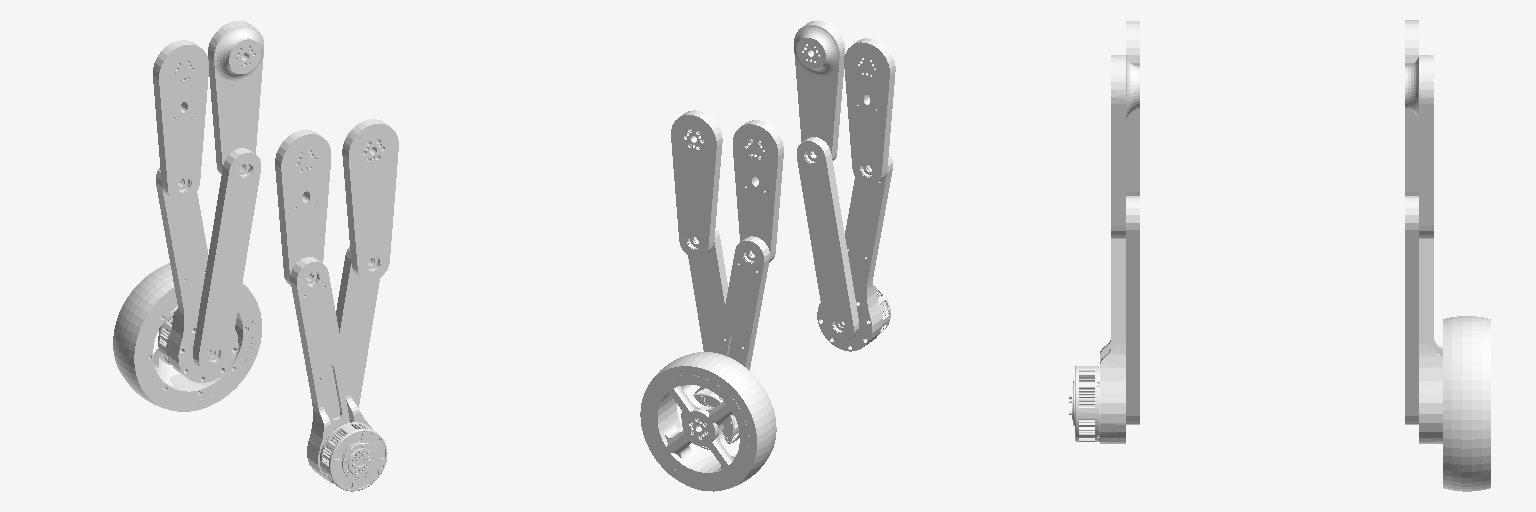
robot.urdf — slash:
<?xml version="1.0" encoding="utf-8"?>
<!-- This URDF was automatically created by SolidWorks to URDF Exporter! Originally created by Stephen Brawner (brawner@gmail.com) 
     Commit Version: 1.6.0-4-g7f85cfe  Build Version: 1.6.7995.38578
     For more information, please see http://wiki.ros.org/sw_urdf_exporter -->
<robot
  name="slash">
  <!-- ROS 导航标准根坐标系: +x 为前进方向。
       SolidWorks 导出的本体前进方向为 +y, 此处绕 Z 转 -90° 对齐。 -->
  <link
    name="base_link" />
  <joint
    name="base_rotation"
    type="fixed">
    <origin
      xyz="0 0 0"
      rpy="0 0 -1.5707963267948966" />
    <parent
      link="base_link" />
    <child
      link="body_link" />
  </joint>
  <link
    name="body_link">
    <inertial>
      <origin
        xyz="0.00401091275817326 0.119343149219089 0.00301166811016491"
        rpy="0 0 0" />
      <mass
        value="4.80554899484188" />
      <inertia
        ixx="0.0267344306333799"
        ixy="0.000596688070416109"
        ixz="-3.20926960797816E-05"
        iyy="0.025308558902717"
        iyz="-0.00137853588967998"
        izz="0.0212128152699659" />
    </inertial>
    <visual>
      <origin
        xyz="0 0 0"
        rpy="0 0 0" />
      <geometry>
        <mesh
          filename="package://slash_description/meshes/base_link.STL" />
      </geometry>
      <material
        name="">
        <color
          rgba="0.752941176470588 0.752941176470588 0.752941176470588 1" />
      </material>
    </visual>
    <collision>
      <origin
        xyz="0 0 0"
        rpy="0 0 0" />
      <geometry>
        <mesh
          filename="package://slash_description/meshes/base_link.STL" />
      </geometry>
    </collision>
  </link>
  <link
    name="lf_link1">
    <inertial>
      <origin
        xyz="0.0515145448509428 -8.07809104330648E-10 -0.020401852350254"
        rpy="0 0 0" />
      <mass
        value="0.192042036984479" />
      <inertia
        ixx="6.15845382794498E-05"
        ixy="-4.87264049485649E-12"
        ixz="2.07536588391246E-05"
        iyy="0.000593442050723196"
        iyz="8.56118235370619E-13"
        izz="0.00063845981261291" />
    </inertial>
    <visual>
      <origin
        xyz="0 0 0"
        rpy="0 0 0" />
      <geometry>
        <mesh
          filename="package://slash_description/meshes/lf_link1.STL" />
      </geometry>
      <material
        name="">
        <color
          rgba="1 1 1 1" />
      </material>
    </visual>
    <collision>
      <origin
        xyz="0 0 0"
        rpy="0 0 0" />
      <geometry>
        <mesh
          filename="package://slash_description/meshes/lf_link1.STL" />
      </geometry>
    </collision>
  </link>
  <joint
    name="lf_joint1"
    type="continuous">
    <origin
      xyz="-0.1395 0.0436361124887791 0.0600000000000026"
      rpy="0 1.5707963267949 0" />
    <parent
      link="body_link" />
    <child
      link="lf_link1" />
    <axis
      xyz="0 0 1" />
    <limit
      lower="-3.14"
      upper="3.14"
      effort="100"
      velocity="5" />
  </joint>
  <link
    name="lf_link2">
    <inertial>
      <origin
        xyz="-0.119999999999947 -9.53404022396853E-15 0.00750000000000001"
        rpy="0 0 0" />
      <mass
        value="0.177912779401" />
      <inertia
        ixx="3.34802206073824E-05"
        ixy="7.27601301691444E-19"
        ixz="1.96405923936921E-19"
        iyy="0.00106756174398178"
        iyz="2.01450038672968E-20"
        izz="0.00109442528532047" />
    </inertial>
    <visual>
      <origin
        xyz="0 0 0"
        rpy="0 0 0" />
      <geometry>
        <mesh
          filename="package://slash_description/meshes/lf_link2.STL" />
      </geometry>
      <material
        name="">
        <color
          rgba="1 1 1 1" />
      </material>
    </visual>
    <collision>
      <origin
        xyz="0 0 0"
        rpy="0 0 0" />
      <geometry>
        <mesh
          filename="package://slash_description/meshes/lf_link2.STL" />
      </geometry>
    </collision>
  </link>
  <joint
    name="lf_joint2"
    type="continuous">
    <origin
      xyz="0.15 0 0"
      rpy="3.14159265358979 0 2.96357049946679" />
    <parent
      link="lf_link1" />
    <child
      link="lf_link2" />
    <axis
      xyz="0 0 1" />
    <limit
      lower="-3.14"
      upper="3.14"
      effort="100"
      velocity="5" />
  </joint>
  <link
    name="lb_link1">
    <inertial>
      <origin
        xyz="0.0601740905705116 -7.97972798949331E-15 -0.00749391645551872"
        rpy="0 0 0" />
      <mass
        value="0.162668603630693" />
      <inertia
        ixx="5.07121247002445E-05"
        ixy="1.35574901175433E-19"
        ixz="5.95483814736016E-08"
        iyy="0.000498124787232517"
        iyz="-1.35335063640679E-19"
        izz="0.000542772952864547" />
    </inertial>
    <visual>
      <origin
        xyz="0 0 0"
        rpy="0 0 0" />
      <geometry>
        <mesh
          filename="package://slash_description/meshes/lb_link1.STL" />
      </geometry>
      <material
        name="">
        <color
          rgba="1 1 1 1" />
      </material>
    </visual>
    <collision>
      <origin
        xyz="0 0 0"
        rpy="0 0 0" />
      <geometry>
        <mesh
          filename="package://slash_description/meshes/lb_link1.STL" />
      </geometry>
    </collision>
  </link>
  <joint
    name="lb_joint1"
    type="continuous">
    <origin
      xyz="-0.1395 -0.041363887511213 0.0600000000000029"
      rpy="0 1.5707963267949 0" />
    <parent
      link="body_link" />
    <child
      link="lb_link1" />
    <axis
      xyz="0 0 -1" />
    <limit
      lower="-3.14"
      upper="3.14"
      effort="100"
      velocity="5" />
  </joint>
  <link
    name="lb_link2">
    <inertial>
      <origin
        xyz="-0.183607336477187 7.48840689256125E-05 0.0189316173449023"
        rpy="0 0 0" />
      <mass
        value="0.365754722337768" />
      <inertia
        ixx="0.000145046735889566"
        ixy="-1.48283116203671E-08"
        ixz="3.74990112526947E-05"
        iyy="0.00200626826384206"
        iyz="8.37144322744992E-08"
        izz="0.00211957056157695" />
    </inertial>
    <visual>
      <origin
        xyz="0 0 0"
        rpy="0 0 0" />
      <geometry>
        <mesh
          filename="package://slash_description/meshes/lb_link2.STL" />
      </geometry>
      <material
        name="">
        <color
          rgba="1 1 1 1" />
      </material>
    </visual>
    <collision>
      <origin
        xyz="0 0 0"
        rpy="0 0 0" />
      <geometry>
        <mesh
          filename="package://slash_description/meshes/lb_link2.STL" />
      </geometry>
    </collision>
  </link>
  <joint
    name="lb_joint2"
    type="continuous">
    <origin
      xyz="0.15 0 -0.0149999999999997"
      rpy="3.14159265358979 0 -2.9635704994654" />
    <parent
      link="lb_link1" />
    <child
      link="lb_link2" />
    <axis
      xyz="0 0 -1" />
    <limit
      lower="-3.14"
      upper="3.14"
      effort="100"
      velocity="5" />
  </joint>
  <link
    name="l_wheel_link">
    <inertial>
      <origin
        xyz="0.0272290688785765 -7.60453591486243E-08 -2.23595830989298E-07"
        rpy="0 0 0" />
      <mass
        value="0.813352988764711" />
      <inertia
        ixx="0.00452268901360862"
        ixy="5.46025076332393E-10"
        ixz="1.60025923481093E-09"
        iyy="0.00238812108458238"
        iyz="4.53760406833505E-08"
        izz="0.00238821226633934" />
    </inertial>
    <visual>
      <origin
        xyz="0 0 0"
        rpy="0 0 0" />
      <geometry>
        <mesh
          filename="package://slash_description/meshes/l_wheel_link.STL" />
      </geometry>
      <material
        name="">
        <color
          rgba="1 1 1 1" />
      </material>
    </visual>
    <collision>
      <origin
        xyz="0 0 0"
        rpy="0 0 0" />
      <geometry>
        <mesh
          filename="package://slash_description/meshes/l_wheel_link.STL" />
      </geometry>
    </collision>
  </link>
  <joint
    name="l_wheel_joint"
    type="continuous">
    <origin
      xyz="-0.240000000000004 0 0.0245499999999999"
      rpy="2.48977106117972 -1.5707963267949 0" />
    <parent
      link="lb_link2" />
    <child
      link="l_wheel_link" />
    <axis
      xyz="-1 0 0" />
  </joint>
  <link
    name="rf_link1">
    <inertial>
      <origin
        xyz="0.0515145448509422 -8.07817694681301E-10 -0.0204018523502542"
        rpy="0 0 0" />
      <mass
        value="0.192042036984479" />
      <inertia
        ixx="6.15845382794499E-05"
        ixy="-4.87263329321998E-12"
        ixz="2.07536588391278E-05"
        iyy="0.000593442050723195"
        iyz="8.56118201760239E-13"
        izz="0.000638459812612908" />
    </inertial>
    <visual>
      <origin
        xyz="0 0 0"
        rpy="0 0 0" />
      <geometry>
        <mesh
          filename="package://slash_description/meshes/rf_link1.STL" />
      </geometry>
      <material
        name="">
        <color
          rgba="1 1 1 1" />
      </material>
    </visual>
    <collision>
      <origin
        xyz="0 0 0"
        rpy="0 0 0" />
      <geometry>
        <mesh
          filename="package://slash_description/meshes/rf_link1.STL" />
      </geometry>
    </collision>
  </link>
  <joint
    name="rf_joint1"
    type="continuous">
    <origin
      xyz="0.1395 0.043636112488779 0.0600000000000025"
      rpy="3.14159265358979 1.5707963267949 0" />
    <parent
      link="body_link" />
    <child
      link="rf_link1" />
    <axis
      xyz="0 0 -1" />
    <limit
      lower="-3.14"
      upper="3.14"
      effort="100"
      velocity="5" />
  </joint>
  <link
    name="rf_link2">
    <inertial>
      <origin
        xyz="0.119999999999998 -7.84788900531908E-15 -0.00750000000000003"
        rpy="0 0 0" />
      <mass
        value="0.177912779401" />
      <inertia
        ixx="3.34802206073824E-05"
        ixy="1.63900875293707E-19"
        ixz="-4.56755467826801E-20"
        iyy="0.00106756174398178"
        iyz="-5.70191467062049E-21"
        izz="0.00109442528532046" />
    </inertial>
    <visual>
      <origin
        xyz="0 0 0"
        rpy="0 0 0" />
      <geometry>
        <mesh
          filename="package://slash_description/meshes/rf_link2.STL" />
      </geometry>
      <material
        name="">
        <color
          rgba="1 1 1 1" />
      </material>
    </visual>
    <collision>
      <origin
        xyz="0 0 0"
        rpy="0 0 0" />
      <geometry>
        <mesh
          filename="package://slash_description/meshes/rf_link2.STL" />
      </geometry>
    </collision>
  </link>
  <joint
    name="rf_joint2"
    type="continuous">
    <origin
      xyz="0.15 0 0"
      rpy="0 0 0.178022154123655" />
    <parent
      link="rf_link1" />
    <child
      link="rf_link2" />
    <axis
      xyz="0 0 1" />
    <limit
      lower="-3.14"
      upper="3.14"
      effort="100"
      velocity="5" />
  </joint>
  <link
    name="rb_link1">
    <inertial>
      <origin
        xyz="0.0601740905705113 -3.60822483003176E-16 -0.00749391645551858"
        rpy="0 0 0" />
      <mass
        value="0.162668603630693" />
      <inertia
        ixx="5.07121247002445E-05"
        ixy="2.99949496310582E-18"
        ixz="5.95483814723176E-08"
        iyy="0.000498124787232516"
        iyz="-2.73314986818685E-19"
        izz="0.000542772952864547" />
    </inertial>
    <visual>
      <origin
        xyz="0 0 0"
        rpy="0 0 0" />
      <geometry>
        <mesh
          filename="package://slash_description/meshes/rb_link1.STL" />
      </geometry>
      <material
        name="">
        <color
          rgba="1 1 1 1" />
      </material>
    </visual>
    <collision>
      <origin
        xyz="0 0 0"
        rpy="0 0 0" />
      <geometry>
        <mesh
          filename="package://slash_description/meshes/rb_link1.STL" />
      </geometry>
    </collision>
  </link>
  <joint
    name="rb_joint1"
    type="continuous">
    <origin
      xyz="0.1395 -0.041363887511213 0.0600000000000028"
      rpy="3.14159265358979 1.5707963267949 0" />
    <parent
      link="body_link" />
    <child
      link="rb_link1" />
    <axis
      xyz="0 0 1" />
    <limit
      lower="-3.14"
      upper="3.14"
      effort="100"
      velocity="5" />
  </joint>
  <link
    name="rb_link2">
    <inertial>
      <origin
        xyz="-0.183607336385873 7.48838209760003E-05 0.0189316173885927"
        rpy="0 0 0" />
      <mass
        value="0.36575472403603" />
      <inertia
        ixx="0.000145046731021222"
        ixy="-1.48272681158272E-08"
        ixz="3.74990112644665E-05"
        iyy="0.00200626826108702"
        iyz="8.3718997347729E-08"
        izz="0.00211957055162323" />
    </inertial>
    <visual>
      <origin
        xyz="0 0 0"
        rpy="0 0 0" />
      <geometry>
        <mesh
          filename="package://slash_description/meshes/rb_link2.STL" />
      </geometry>
      <material
        name="">
        <color
          rgba="1 1 1 1" />
      </material>
    </visual>
    <collision>
      <origin
        xyz="0 0 0"
        rpy="0 0 0" />
      <geometry>
        <mesh
          filename="package://slash_description/meshes/rb_link2.STL" />
      </geometry>
    </collision>
  </link>
  <joint
    name="rb_joint2"
    type="continuous">
    <origin
      xyz="0.15 0 -0.0149999999999992"
      rpy="3.14159265358979 0 2.96357049946603" />
    <parent
      link="rb_link1" />
    <child
      link="rb_link2" />
    <axis
      xyz="0 0 1" />
    <limit
      lower="-3.14"
      upper="3.14"
      effort="100"
      velocity="5" />
  </joint>
  <link
    name="r_wheel_lilnk">
    <inertial>
      <origin
        xyz="0.0272290688785765 1.61371710161173E-07 -1.72444667823285E-07"
        rpy="0 0 0" />
      <mass
        value="0.81335298876471" />
      <inertia
        ixx="0.00452268901360862"
        ixy="-1.15408969550708E-09"
        ixz="1.23573863583978E-09"
        iyy="0.00238815429413562"
        iyz="-6.31206468111192E-08"
        izz="0.00238817905678611" />
    </inertial>
    <visual>
      <origin
        xyz="0 0 0"
        rpy="0 0 0" />
      <geometry>
        <mesh
          filename="package://slash_description/meshes/r_wheel_lilnk.STL" />
      </geometry>
      <material
        name="">
        <color
          rgba="1 1 1 1" />
      </material>
    </visual>
    <collision>
      <origin
        xyz="0 0 0"
        rpy="0 0 0" />
      <geometry>
        <mesh
          filename="package://slash_description/meshes/r_wheel_lilnk.STL" />
      </geometry>
    </collision>
  </link>
  <joint
    name="r_wheel_joint"
    type="continuous">
    <origin
      xyz="-0.240000000000005 0 0.02455"
      rpy="1.39519650164738 -1.5707963267949 0" />
    <parent
      link="rb_link2" />
    <child
      link="r_wheel_lilnk" />
    <axis
      xyz="1 0 0" />
  </joint>
  <link
    name="lidar_link">
    <inertial>
      <origin
        xyz="0.000833803989273116 -0.00078555861716488 0.043138630065754"
        rpy="0 0 0" />
      <mass
        value="0.214079740396875" />
      <inertia
        ixx="6.69609840557539E-05"
        ixy="-1.34404367879072E-06"
        ixz="-1.8219413047276E-07"
        iyy="6.85508920505304E-05"
        iyz="-1.06344473837337E-07"
        izz="0.000112360117131968" />
    </inertial>
    <visual>
      <origin
        xyz="0 0 0"
        rpy="0 0 0" />
      <geometry>
        <mesh
          filename="package://slash_description/meshes/lidar_link.STL" />
      </geometry>
      <material
        name="">
        <color
          rgba="1 1 1 1" />
      </material>
    </visual>
    <collision>
      <origin
        xyz="0 0 0"
        rpy="0 0 0" />
      <geometry>
        <mesh
          filename="package://slash_description/meshes/lidar_link.STL" />
      </geometry>
    </collision>
  </link>
  <joint
    name="lidar_joint_fix"
    type="fixed">
    <origin
      xyz="0 0.0650000000000013 0.24"
      rpy="0 0 -2.09439510239323" />
    <parent
      link="body_link" />
    <child
      link="lidar_link" />
    <axis
      xyz="0 0 0" />
  </joint>
</robot>

--- Facts derived from the render (not from the file) ---
The picture shows the robot from 3 angles, left to right: view 1: azimuth 30°, elevation 25°; view 2: azimuth 150°, elevation 25°; view 3: azimuth 270°, elevation 25°; orthographic projection.
Robot: slash — 13 links, 12 joints (10 continuous, 2 fixed); root link base_link; default pose: every joint at zero.
Visible links, largest first — view 1: rb_link2, l_wheel_link, lf_link2, rf_link1, lb_link1, lb_link2, rb_link1, lf_link1, rf_link2; view 2: l_wheel_link, rf_link2, lf_link1, rb_link1, rb_link2, lb_link1, rf_link1, lb_link2, lf_link2; view 3: l_wheel_link, rb_link2, lb_link2, lf_link1, rf_link1, lf_link2, rf_link2, lb_link1, rb_link1.
Boxes of the visible links, x1,y1,x2,y2 form: rb_link2: [290, 257, 387, 491]; l_wheel_link: [113, 263, 261, 411]; lf_link2: [193, 148, 260, 372]; rf_link1: [342, 119, 398, 280]; lb_link1: [153, 40, 208, 201]; lb_link2: [156, 168, 238, 382]; rb_link1: [275, 129, 330, 285]; lf_link1: [208, 21, 263, 174]; rf_link2: [336, 246, 379, 407]; l_wheel_link: [640, 352, 776, 491]; rf_link2: [797, 137, 858, 341]; lf_link1: [671, 110, 722, 257]; rb_link1: [844, 38, 895, 185]; rb_link2: [817, 155, 892, 351]; lb_link1: [733, 120, 783, 262]; rf_link1: [794, 21, 844, 160]; lb_link2: [681, 236, 769, 449]; lf_link2: [688, 227, 727, 352]; l_wheel_link: [1443, 316, 1490, 491]; rb_link2: [1069, 239, 1125, 443]; lb_link2: [1419, 239, 1442, 443]; lf_link1: [1405, 55, 1433, 238]; rf_link1: [1111, 55, 1139, 238]; lf_link2: [1405, 196, 1418, 424]; rf_link2: [1126, 196, 1139, 424]; lb_link1: [1405, 20, 1418, 195]; rb_link1: [1126, 21, 1139, 195].
Bounding box of the posed robot: 0.1847 × 0.4448 × 0.5135 m (x, y, z).
Meshes: 12 distinct files referenced, 9 mesh visuals loaded (9 binary STL); not drawn: 3 (reference not matched to a file when rendering).
